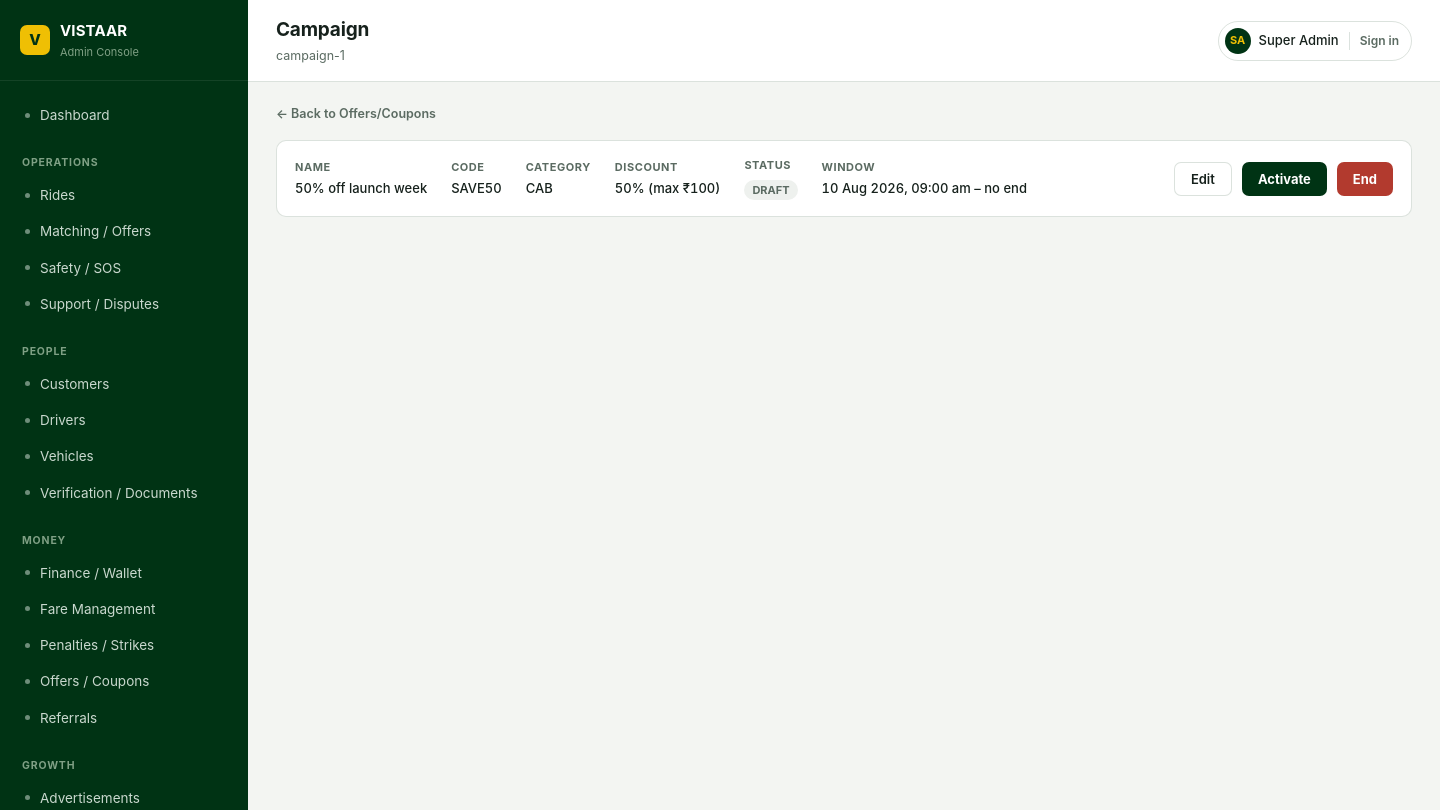
it: CampaignDetailPage › offers Edit and Activate on a DRAFT campaign, and activates
Expected: the button "Edit" is shown, [1174,162,1232,196]
Click the button "Activate" at x=1284, y=178, box [1242,162,1327,196]
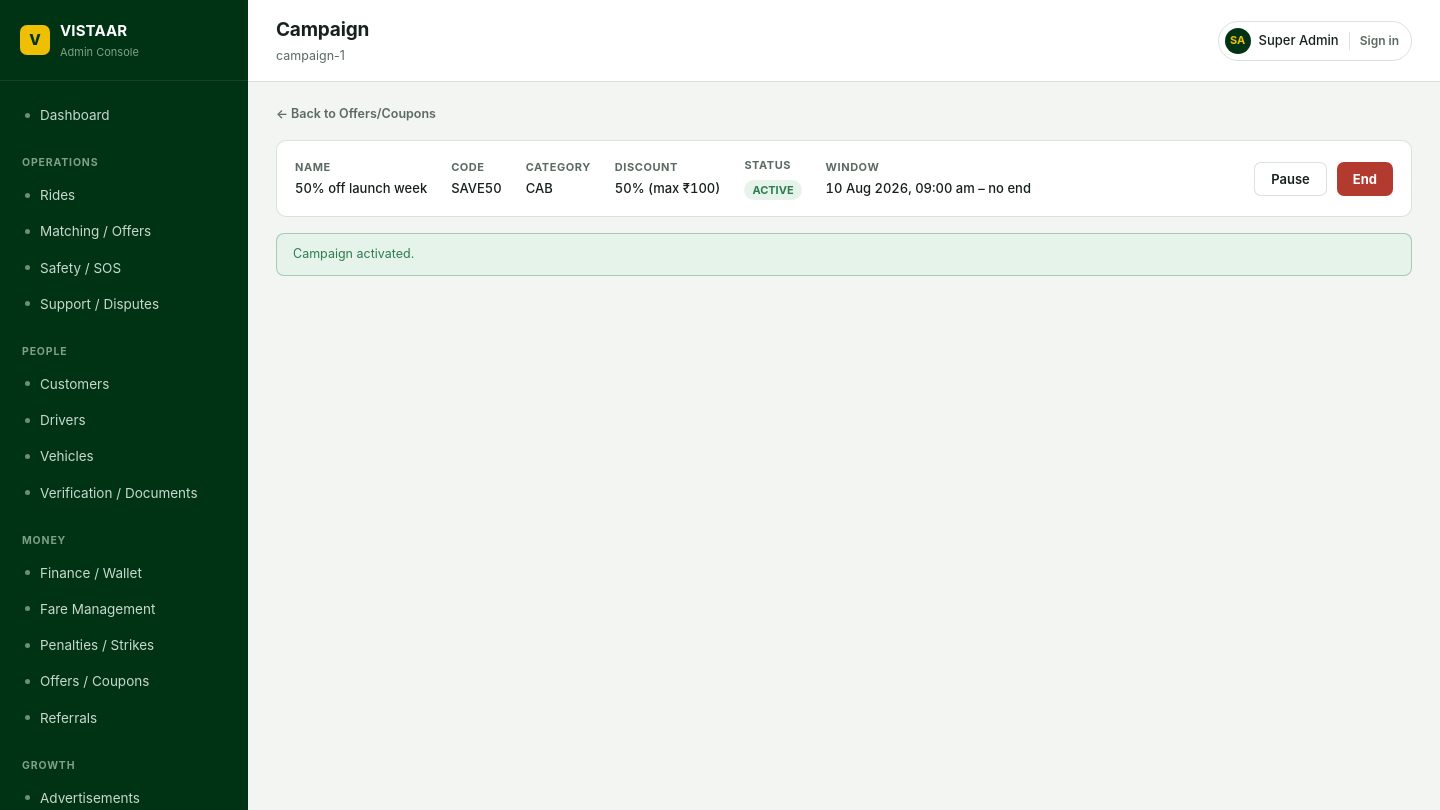
Result: the text "Campaign activated." is shown at [276,233,1412,276]
Result: the button "Edit" is gone
Result: the button "Pause" is shown at [1254,162,1327,196]
